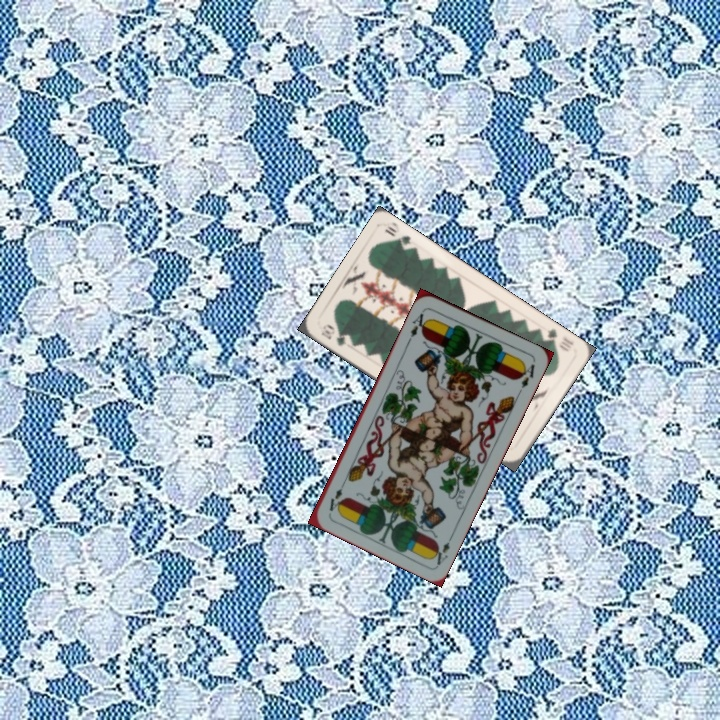EA: (428, 529, 456, 568), (404, 306, 431, 345)
G10: (537, 325, 576, 354), (317, 320, 349, 348)
